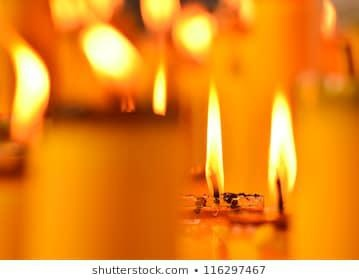fire: (5, 39, 52, 137), (266, 87, 296, 211), (202, 81, 224, 197), (150, 59, 168, 115)
